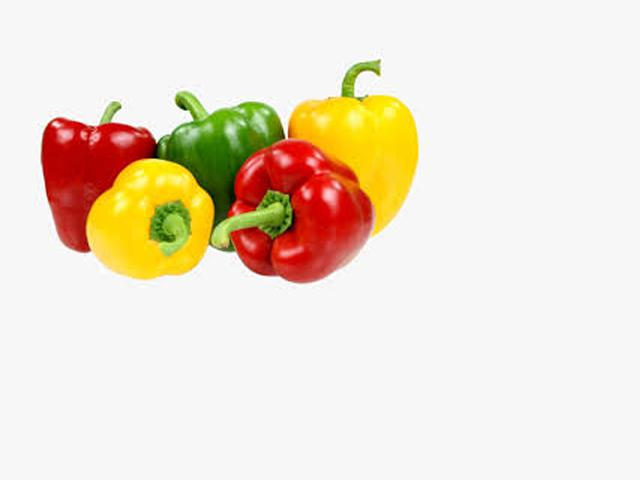bell_pepper: (31, 96, 154, 232)
